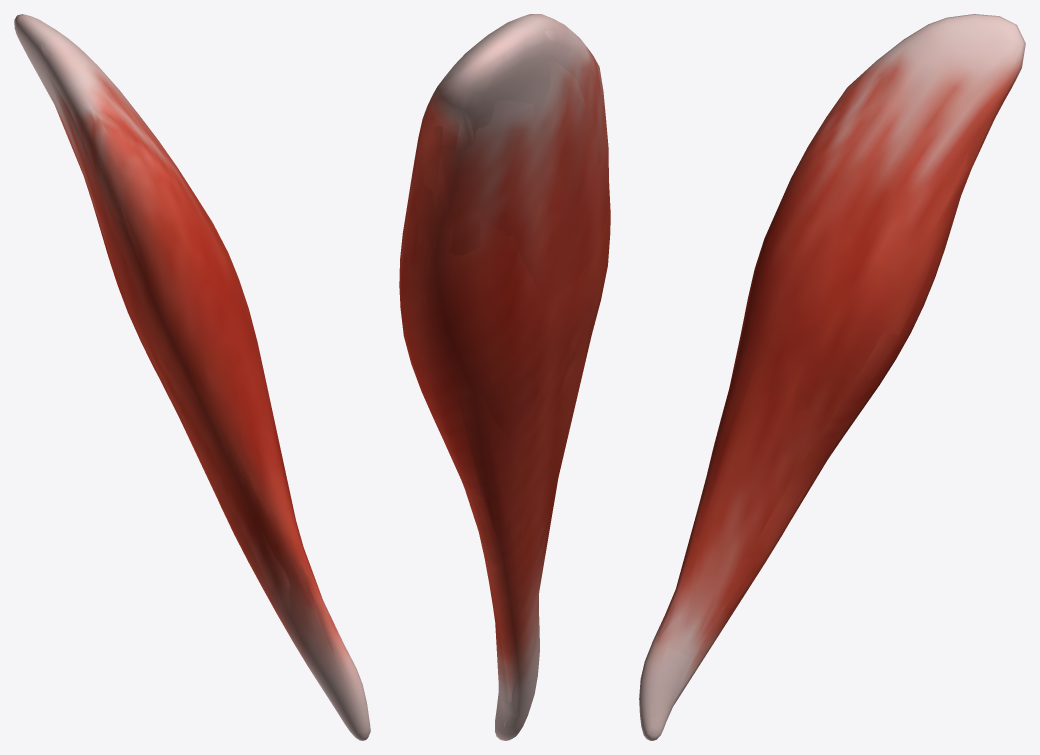
The model's file is L Adductor.fbx.
3 views of the same model, side by side, from view 1: azimuth 30°, elevation 25°; view 2: azimuth 150°, elevation 25°; view 3: azimuth 270°, elevation 25° (orthographic). The views are drawn at different scales.
Parts seen in each view (by area): view 1: L Adductor, L Adductor low; view 2: L Adductor, L Adductor low; view 3: L Adductor, L Adductor low.
Part boxes in pixels (x1,y1,x2,y2): L Adductor: (14, 14, 370, 740); L Adductor low: (15, 18, 362, 683); L Adductor: (399, 14, 610, 740); L Adductor low: (400, 20, 607, 726); L Adductor: (639, 14, 1025, 740); L Adductor low: (644, 15, 1025, 736).
Size of the model in its own units: 10.05 by 33.83 by 18.42.
